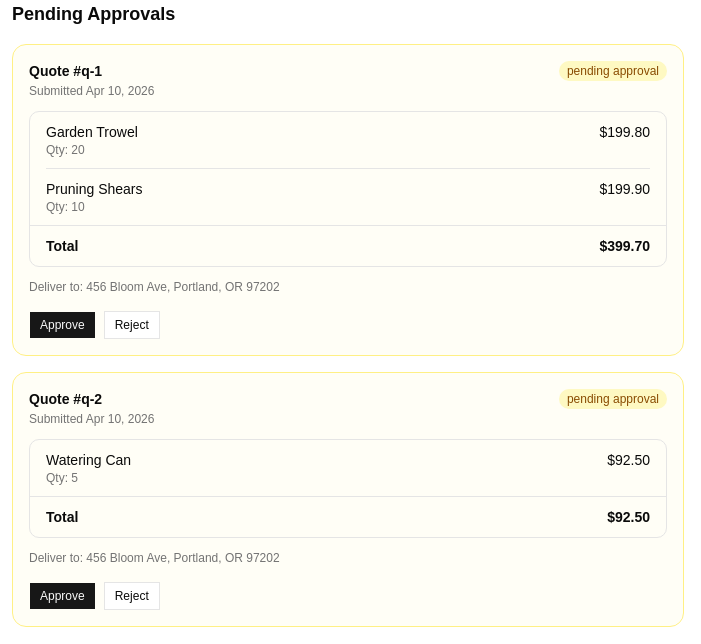
PendingApprovalsPage › only removes the approved card, not others
Click the button "Approve" below "Pruning Shears" at (62, 325), box [29,311,96,339]
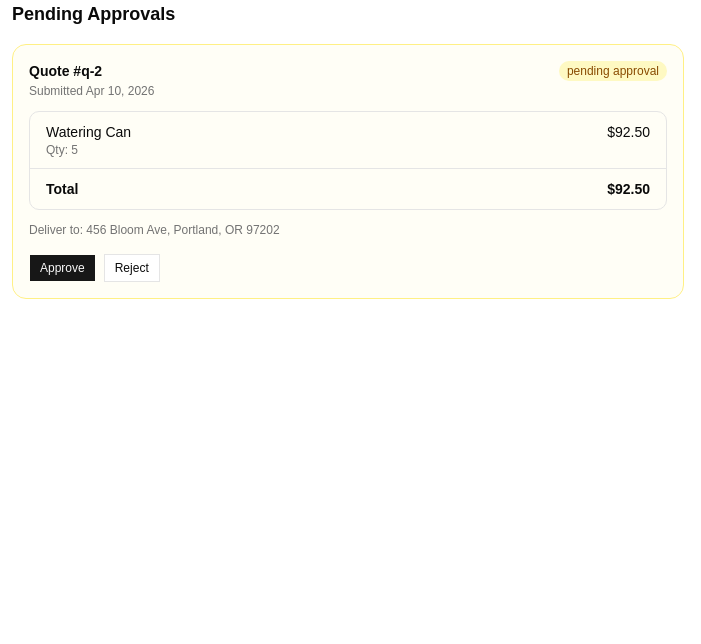
Expected: the number of buttons "Approve" is 1, [29,254,96,282]
